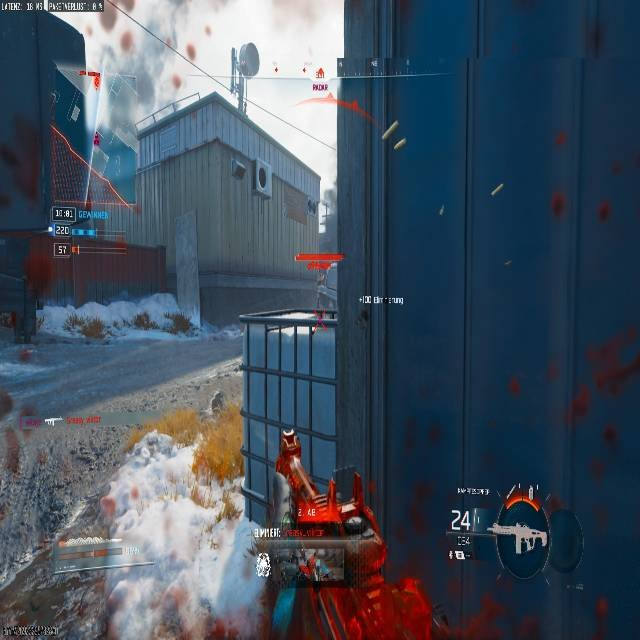player: (244, 431, 380, 640), (81, 0, 181, 149)
